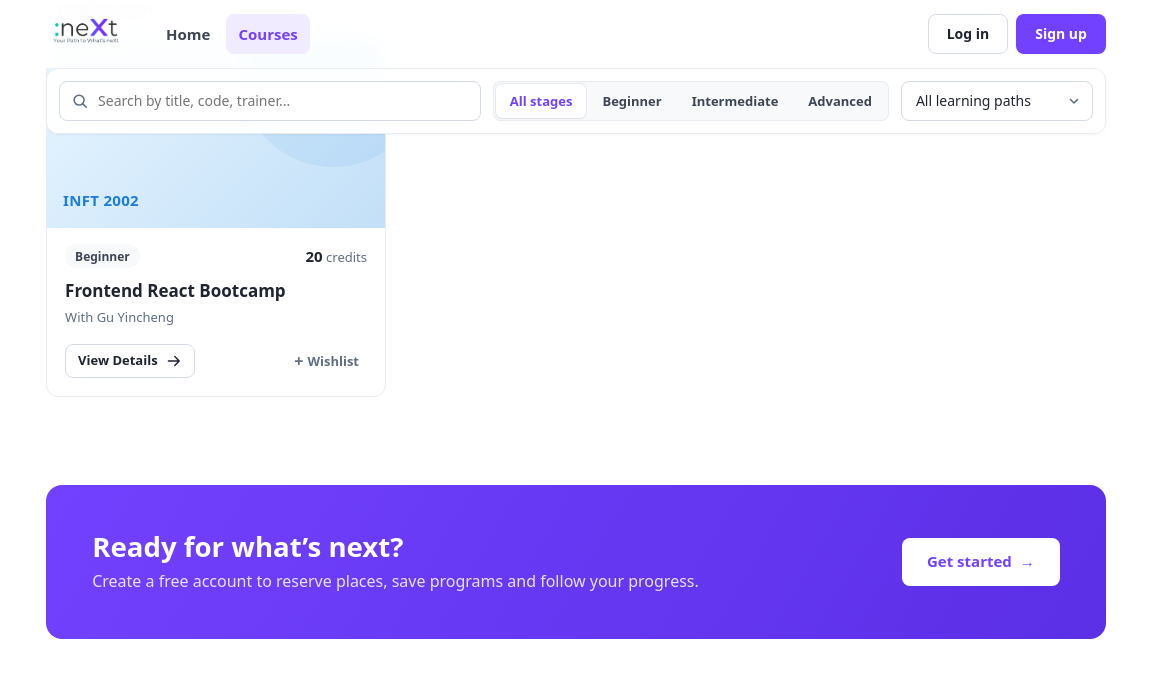
Test case: lets guests open the public catalog and course details, but not wishlist
(page scrolled)
Check: the heading "Frontend React Bootcamp" is shown, box [65,279,286,302]
Click the button "+ Wishlist". click: (327, 361)
box: [286,344,367,378]
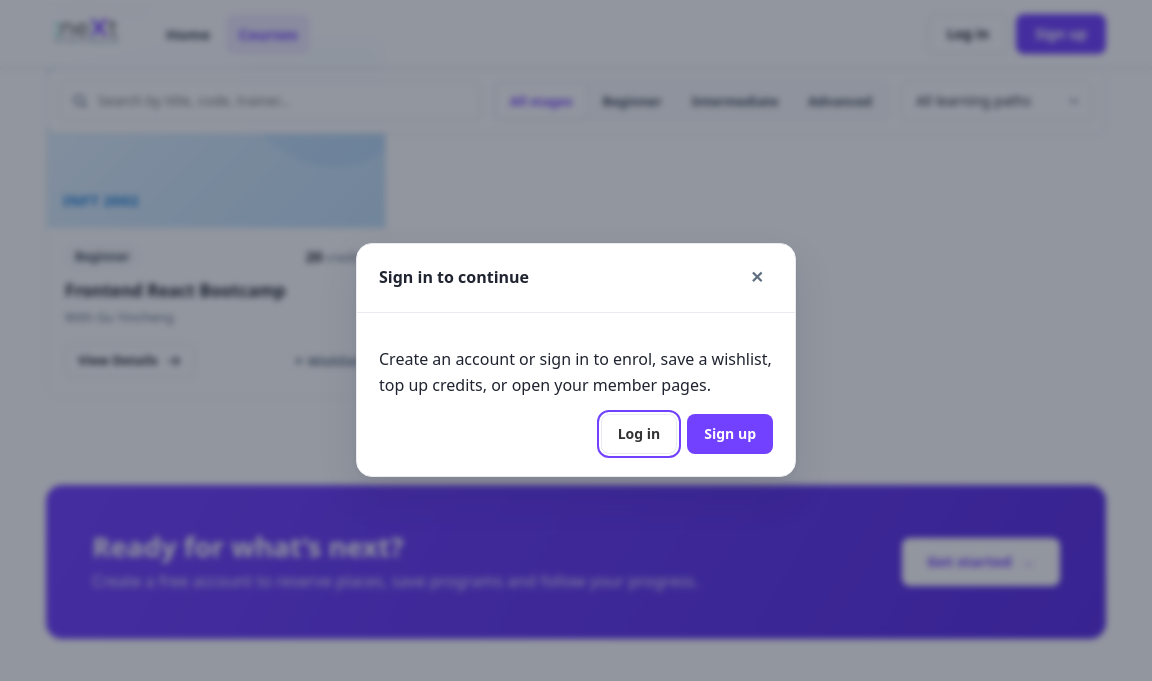
Check: the dialog "Sign in to continue" is shown, box [356,243,796,477]
Click the button named "Close". click: (757, 278)
box: [741,262,773,294]
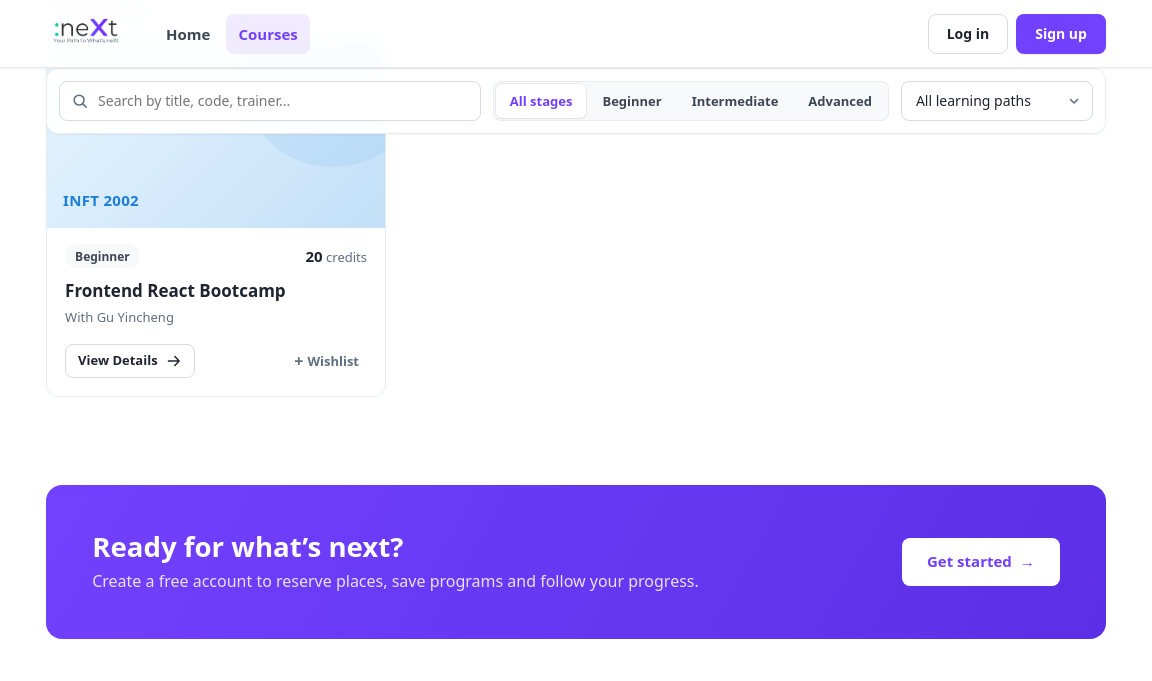
Click the button "View Details". click: (130, 361)
box: [65,344,195,378]
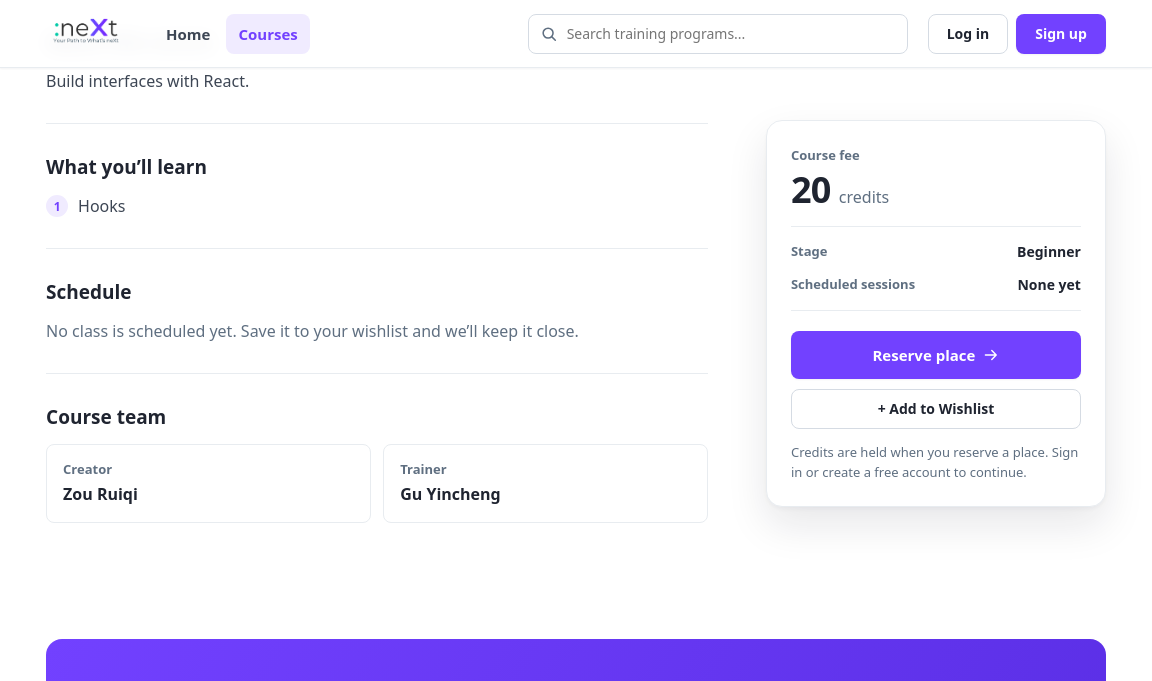
Check: the text "Build interfaces with React." is shown, box [46,70,249,92]
